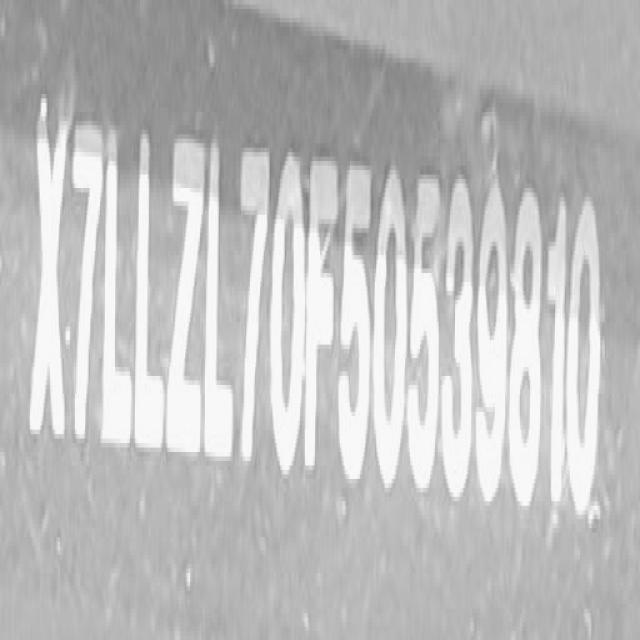0: (268, 143, 308, 487), (373, 160, 411, 502), (566, 202, 606, 524)
1: (544, 196, 572, 523)
3: (442, 176, 479, 509)
5: (337, 156, 375, 497), (406, 162, 443, 505)
7: (69, 113, 102, 449), (238, 132, 270, 470)
8: (509, 184, 547, 517)
9: (475, 180, 511, 512)
F: (304, 152, 341, 493)
L: (202, 123, 238, 473), (130, 121, 166, 454), (100, 114, 134, 451)
X: (25, 102, 72, 457)
Z: (165, 124, 207, 469)
